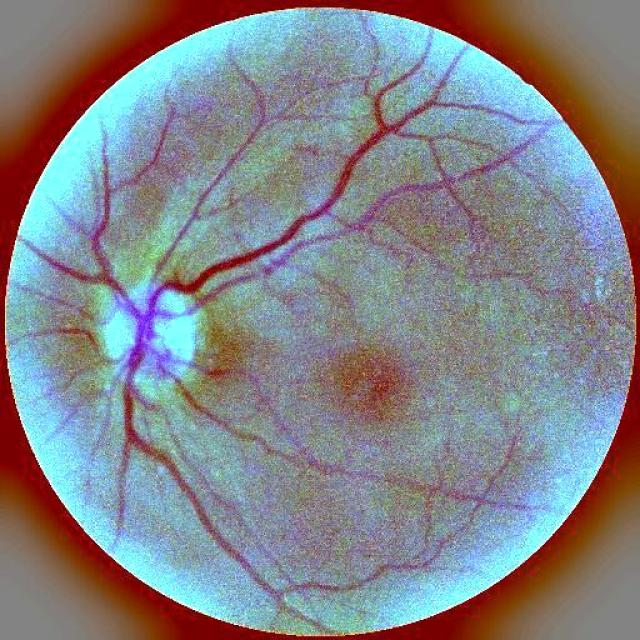Macula: (318, 345, 412, 420)
Nerves: (28, 40, 459, 333), (112, 332, 488, 613)
Optic Disk: (105, 284, 198, 374)
